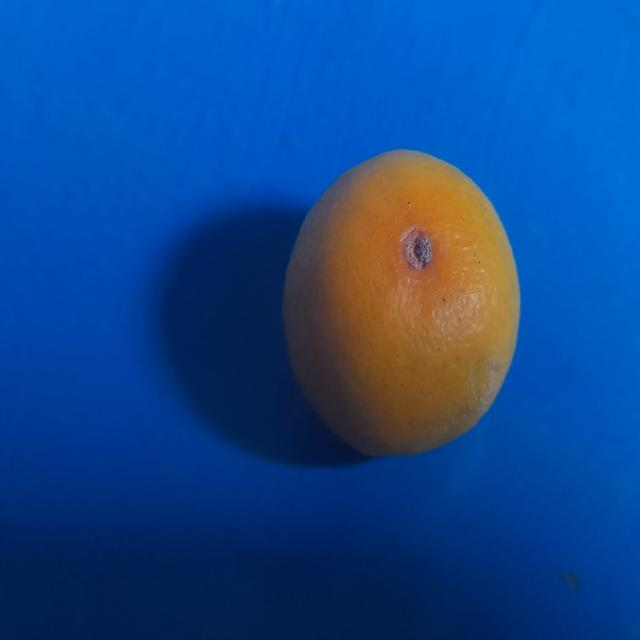greening: (280, 138, 525, 464)
